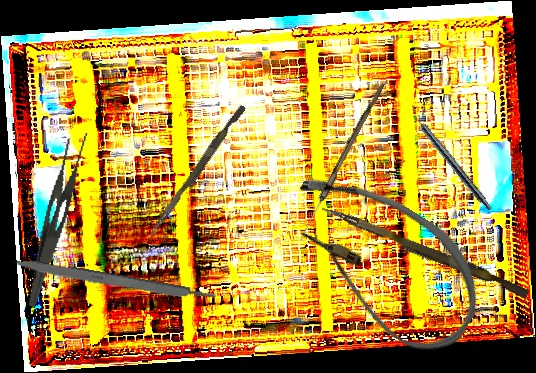Cannula: (259, 153, 504, 368)
Dressing Forceps: (26, 127, 91, 312)
Handpiece: (404, 104, 496, 213)
Pusher: (317, 204, 532, 299), (147, 102, 247, 241)
Scalpel Handle: (9, 255, 218, 307)
Surgical Spoon: (297, 80, 385, 244)
